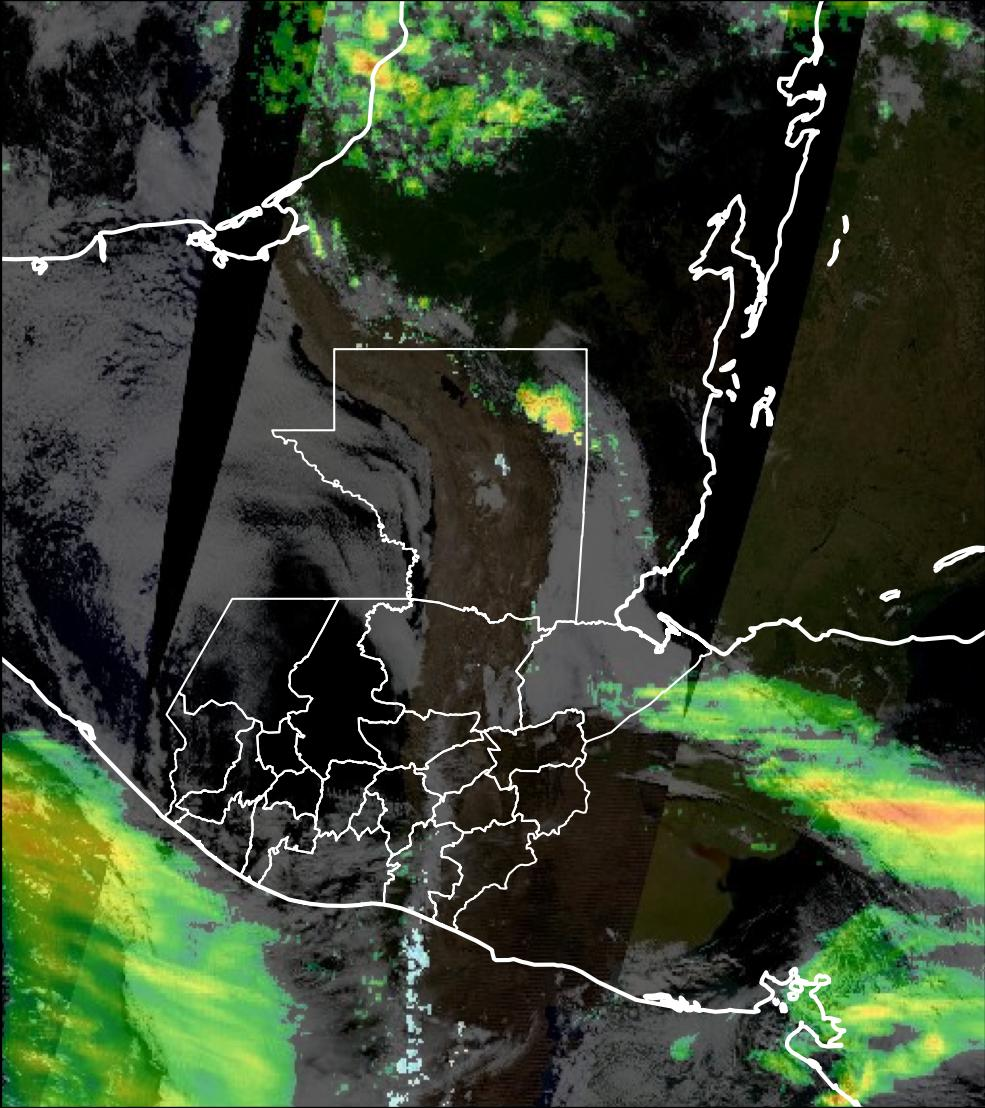precipitacion: (779, 759, 985, 849)
